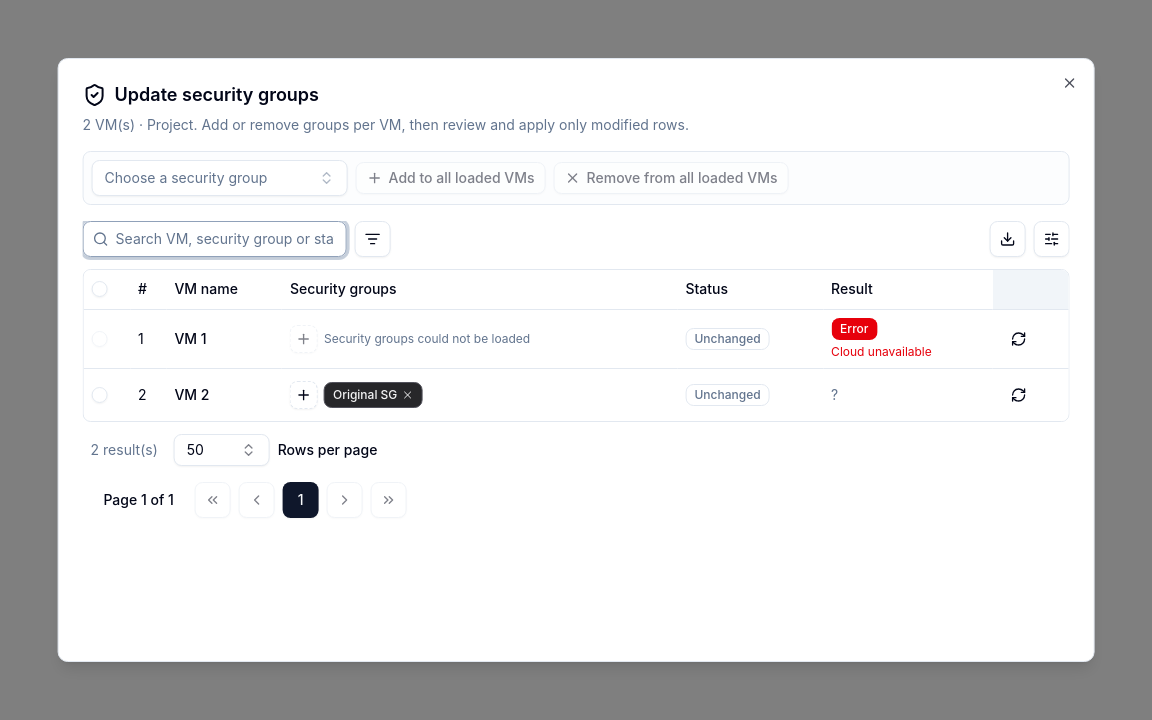
Scenario: keeps VM rows with failed detail reads locked and reloads with the existing GET API
The width and height of the screenshot is (1152, 720).
Expected: the text "Error" is shown, [831,318,877,340]
Expected: the dropdown named "Add SG to VM 1" is disabled, [290,325,318,353]
Click the button named "Reload VM 1". click: (1019, 339)
box: [1001,321,1037,357]
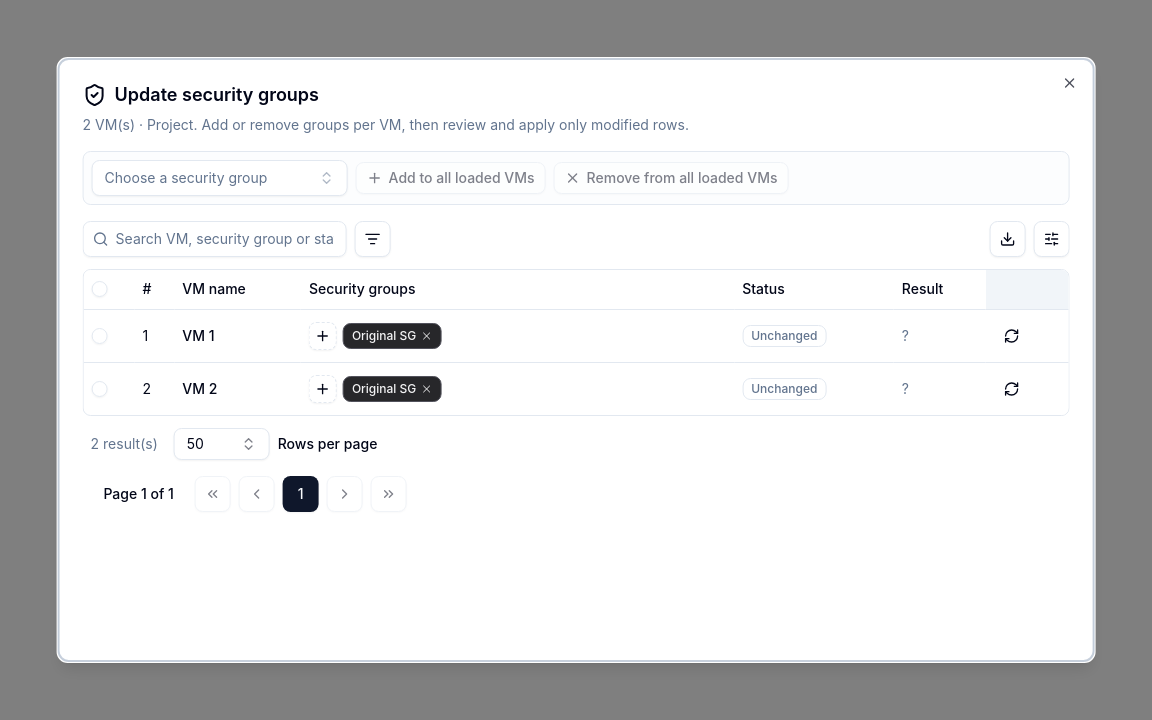
Now the dropdown named "Add SG to VM 1" is enabled, box [309,322,337,350]
